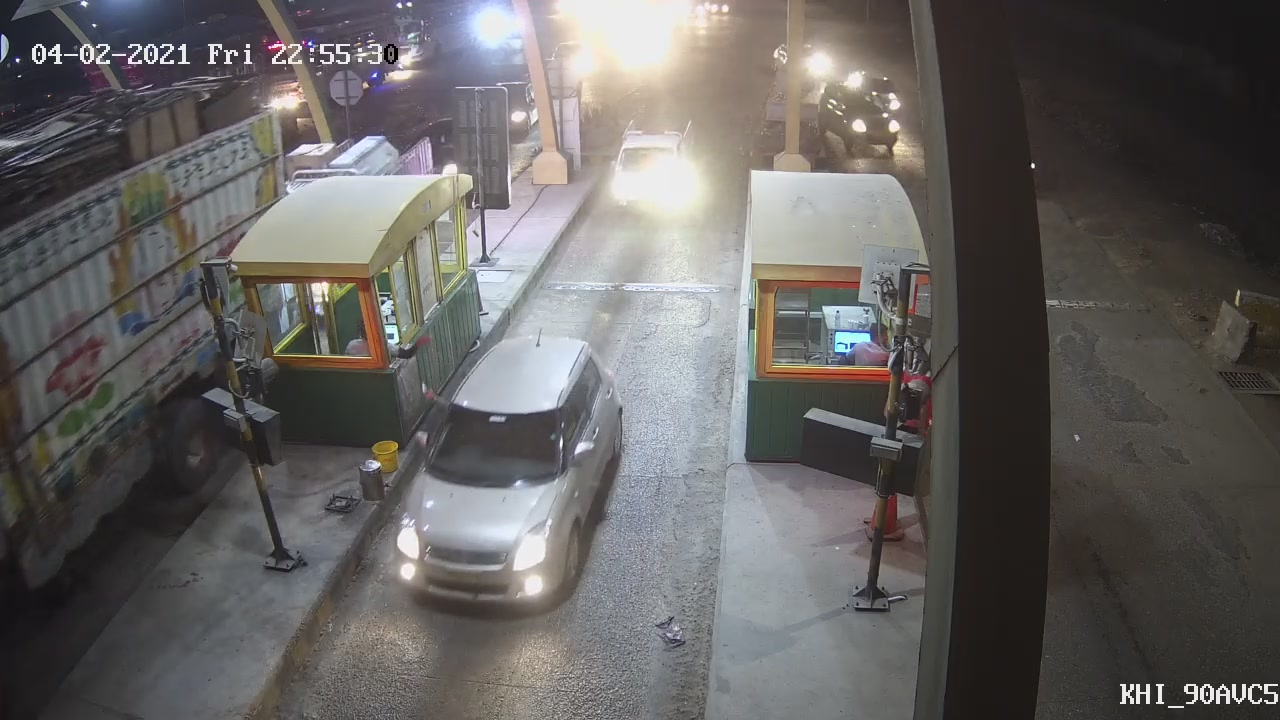F1: (392, 326, 632, 612)
